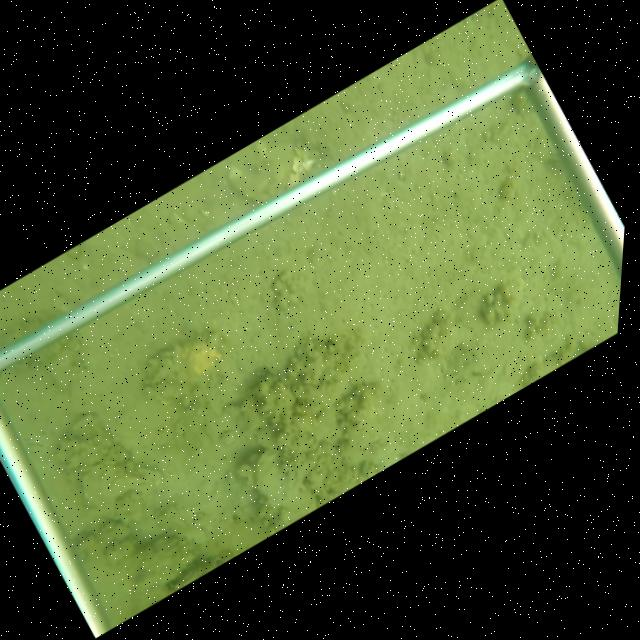Oyster-Indeterminate: (78, 522, 138, 630), (228, 139, 317, 204), (254, 445, 292, 502)
